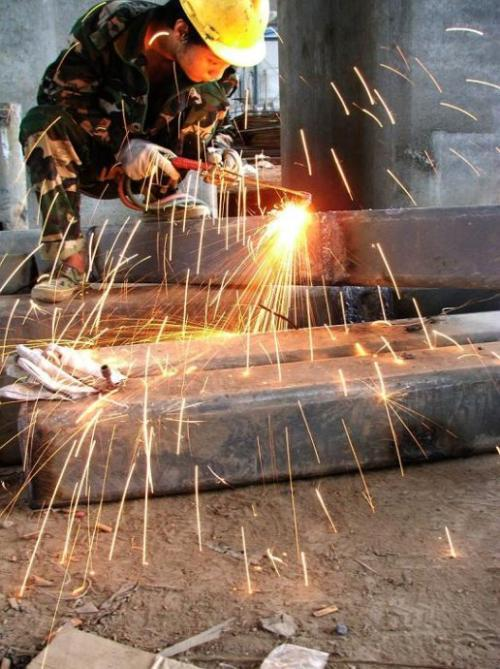helmet: (148, 1, 277, 100)
